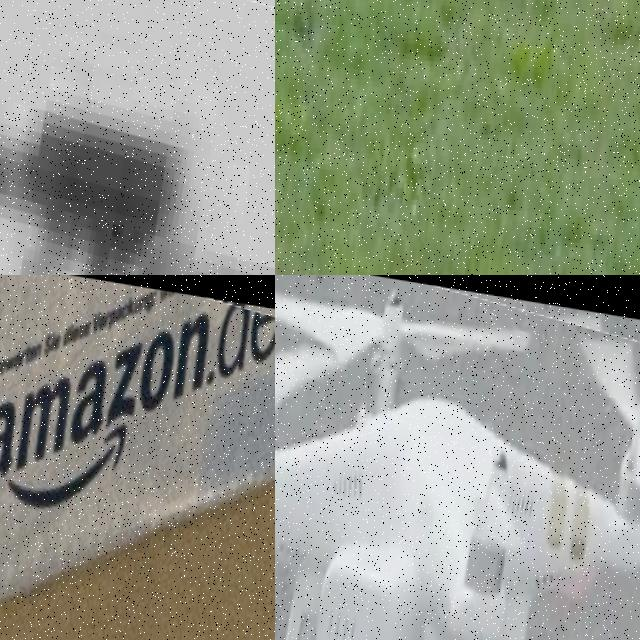0: (0, 0, 275, 275)
drone: (275, 275, 640, 640), (0, 275, 275, 640)
